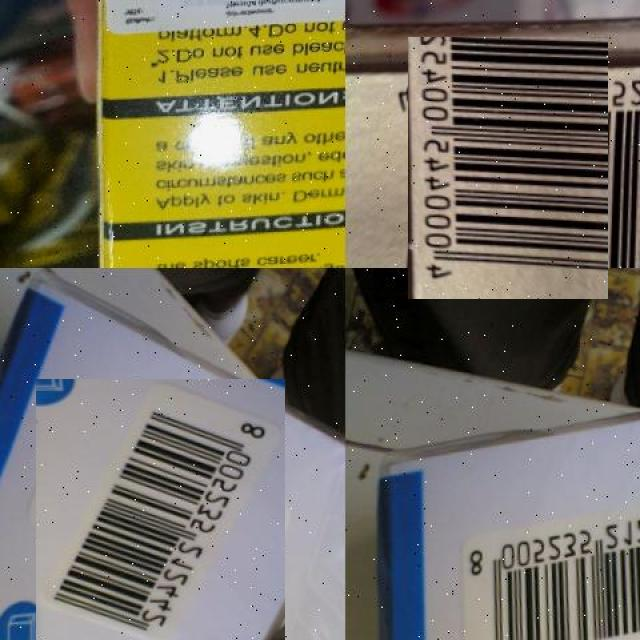Barcode: (29, 384, 290, 640), (393, 52, 624, 284), (458, 488, 640, 640)
